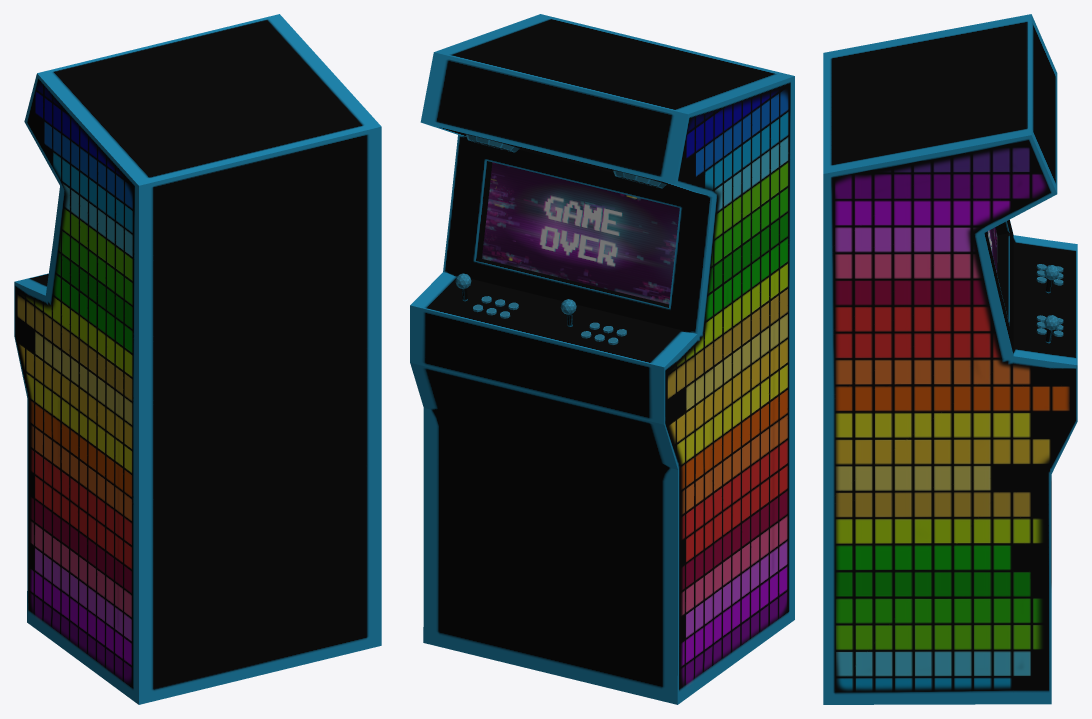
Rendered from Arcade.fbx.
3 renders of one model, left to right at view 1: azimuth 30°, elevation 25°; view 2: azimuth 150°, elevation 25°; view 3: azimuth 270°, elevation 25°, orthographic. The views are drawn at different scales.
Parts seen in each view (by area): view 1: Arcade; view 2: Arcade; view 3: Arcade.
Part boxes in pixels (x1,y1,x2,y2): Arcade: (14,14,381,704); Arcade: (410,14,794,704); Arcade: (823,14,1077,704).
Bounding box in the file's own units: 121 × 265 × 107.
Materials: 1 (1 with a texture image).
